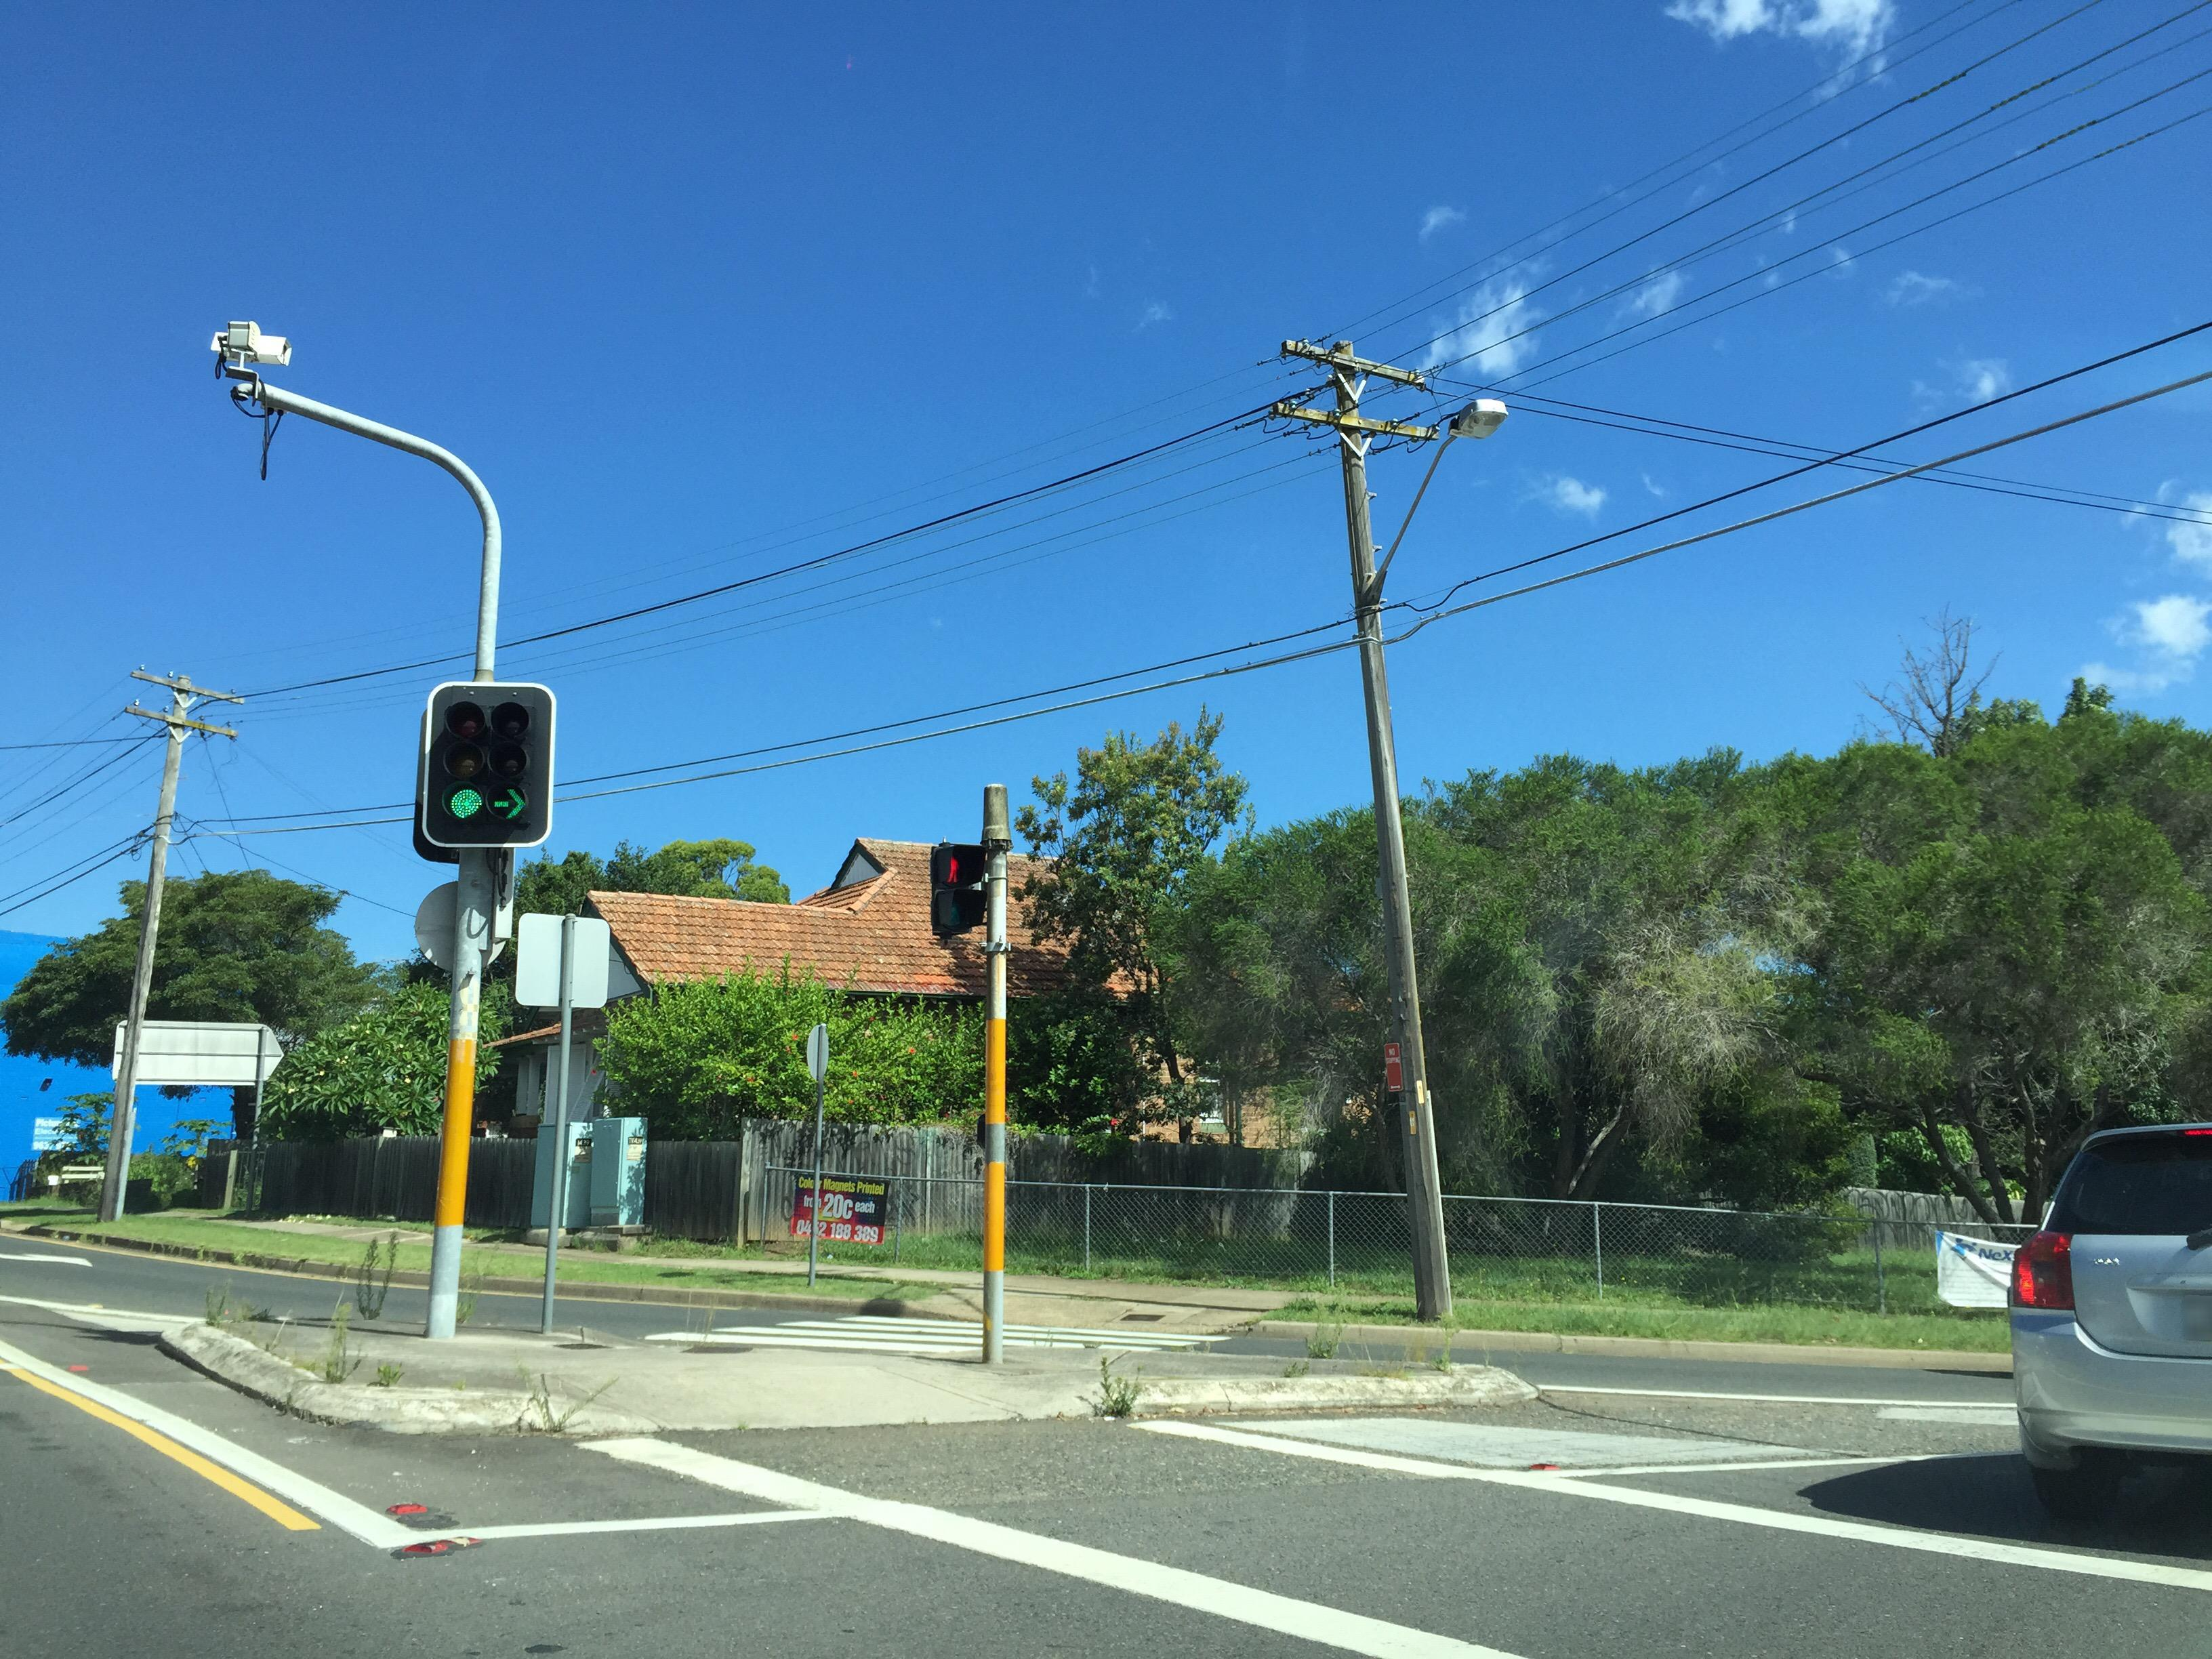vinyl banner: (1916, 1204, 2045, 1328), (782, 1155, 895, 1253)
